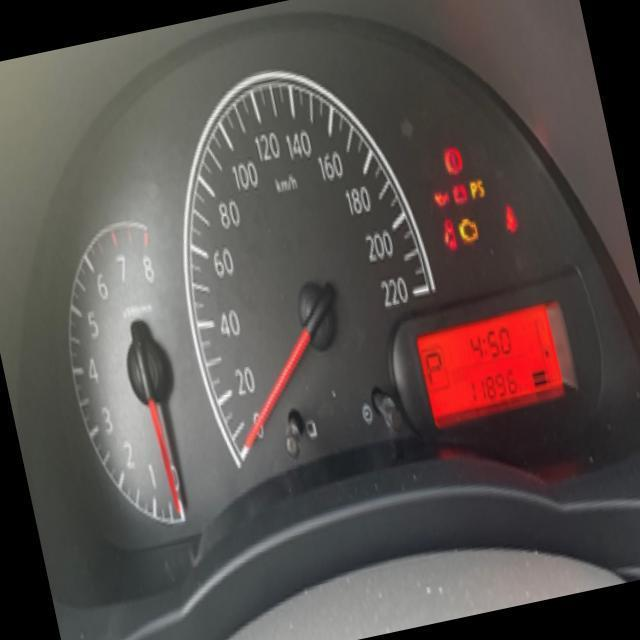Doors: (437, 214, 461, 260)
